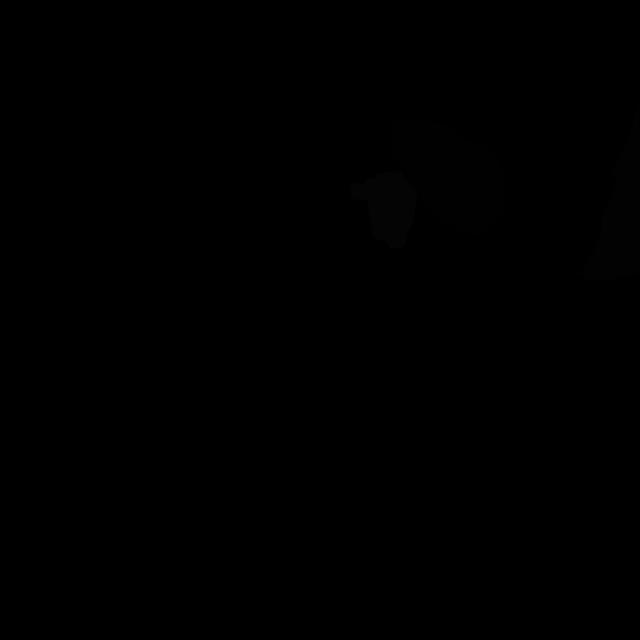cardboard: (579, 102, 640, 281)
rigid_plastic: (389, 121, 507, 237)
soft_plastic: (350, 170, 417, 249)
